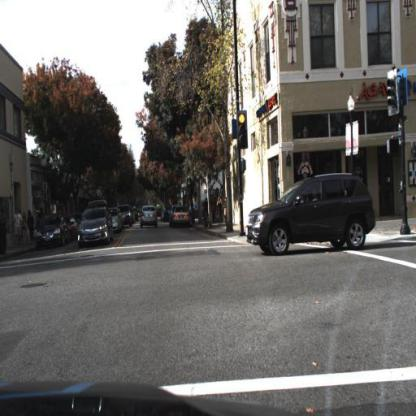car: (247, 171, 378, 257), (78, 208, 113, 247), (38, 215, 70, 249), (172, 207, 192, 230), (142, 206, 160, 230), (112, 207, 125, 235), (124, 203, 137, 231)
pedestrian: (406, 167, 416, 232), (15, 209, 24, 249), (27, 207, 35, 249), (16, 210, 23, 248), (217, 196, 224, 226), (211, 195, 218, 223), (22, 212, 28, 243), (224, 196, 229, 224)
trafficLight: (237, 111, 249, 152)
